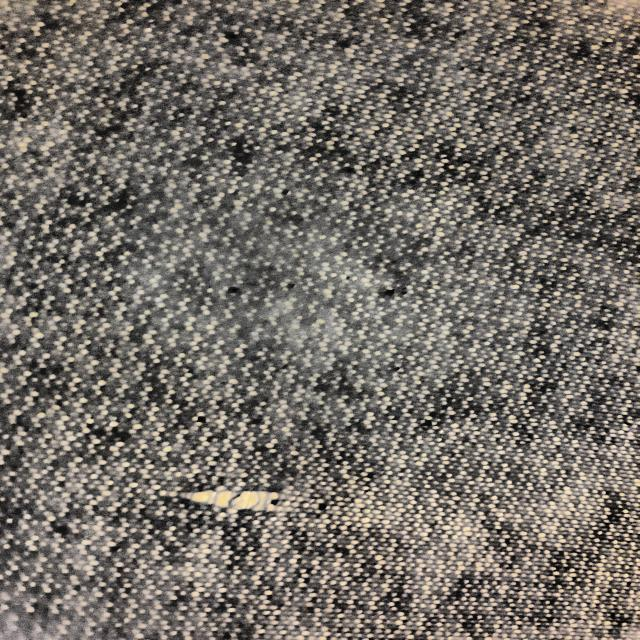Hole: (488, 409, 514, 458), (490, 354, 511, 406)
